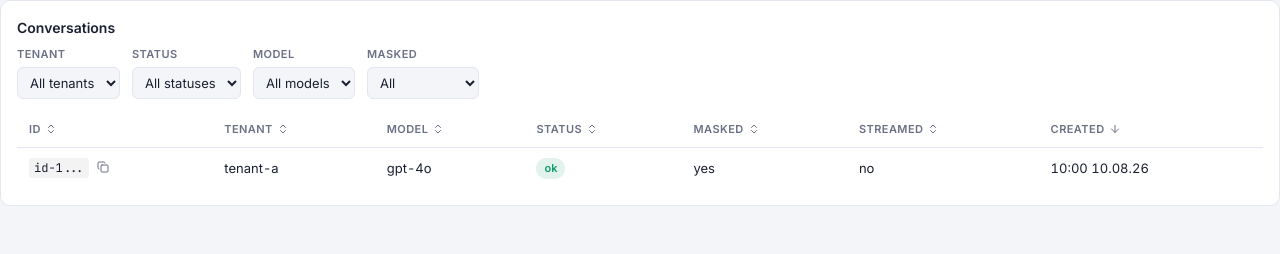
Scenario: Conversations detail › shows error state when detail fetch fails
Click the text "id-1...": [59, 168] box [29,158,89,178]
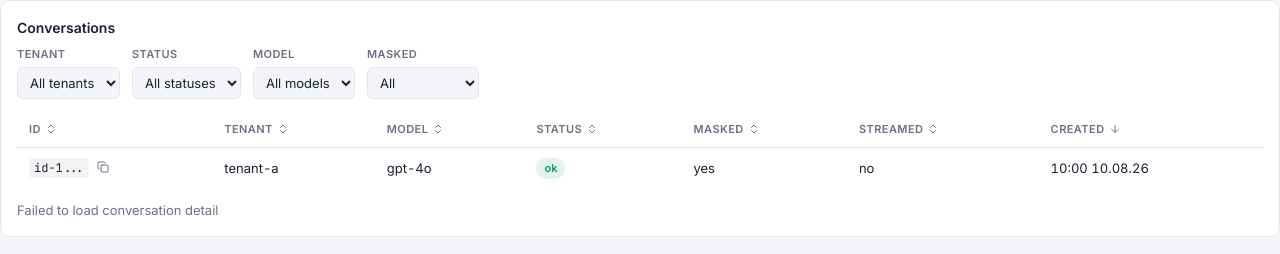
Result: the text "Failed to load conversation detail" is shown at [17,202,218,218]
